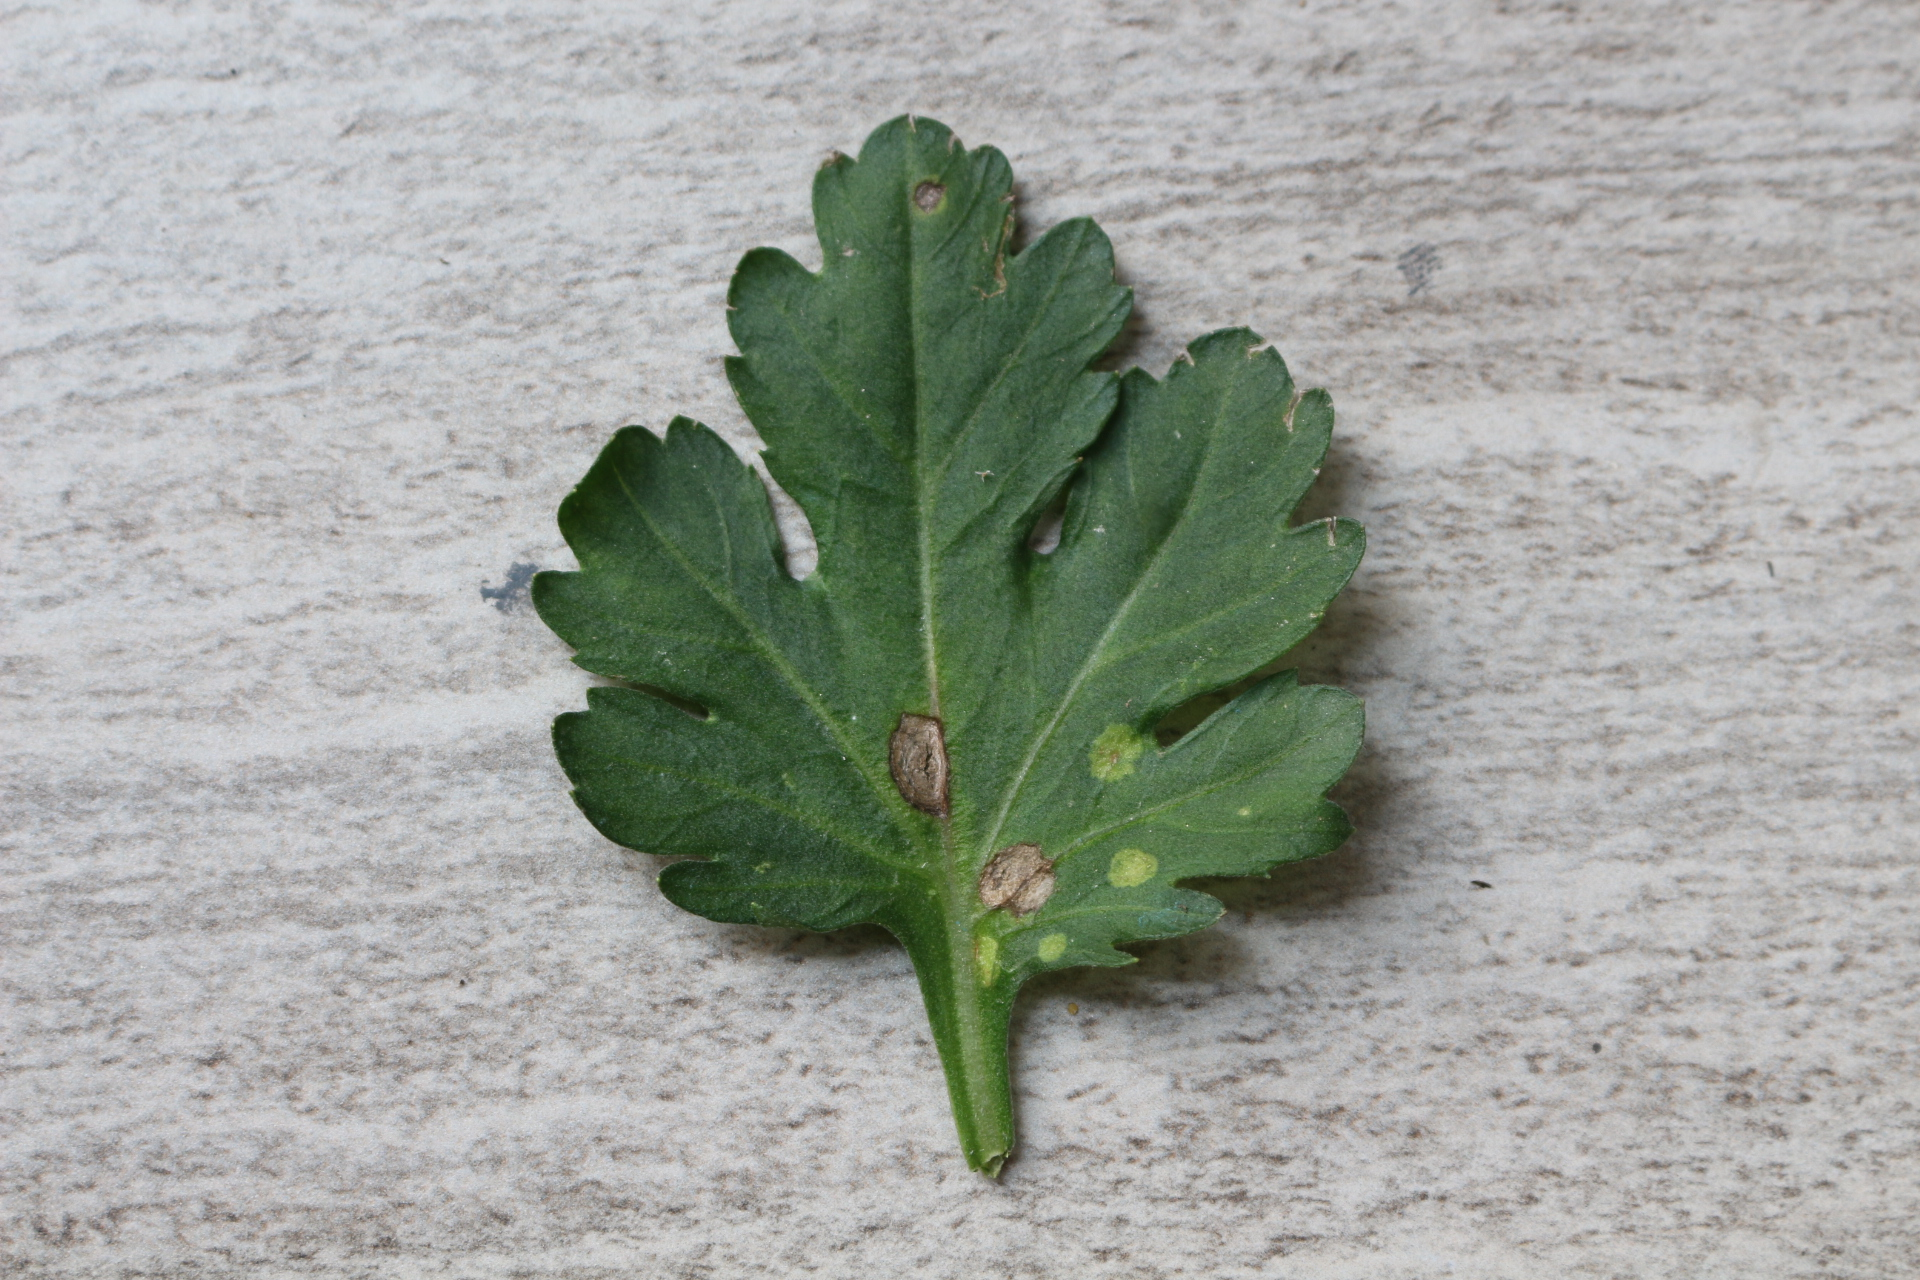namden: (886, 709, 954, 824), (974, 846, 1066, 920), (909, 181, 951, 217)
namsung: (1106, 846, 1174, 896), (1091, 727, 1146, 787), (964, 939, 1004, 991), (1037, 931, 1070, 969)
